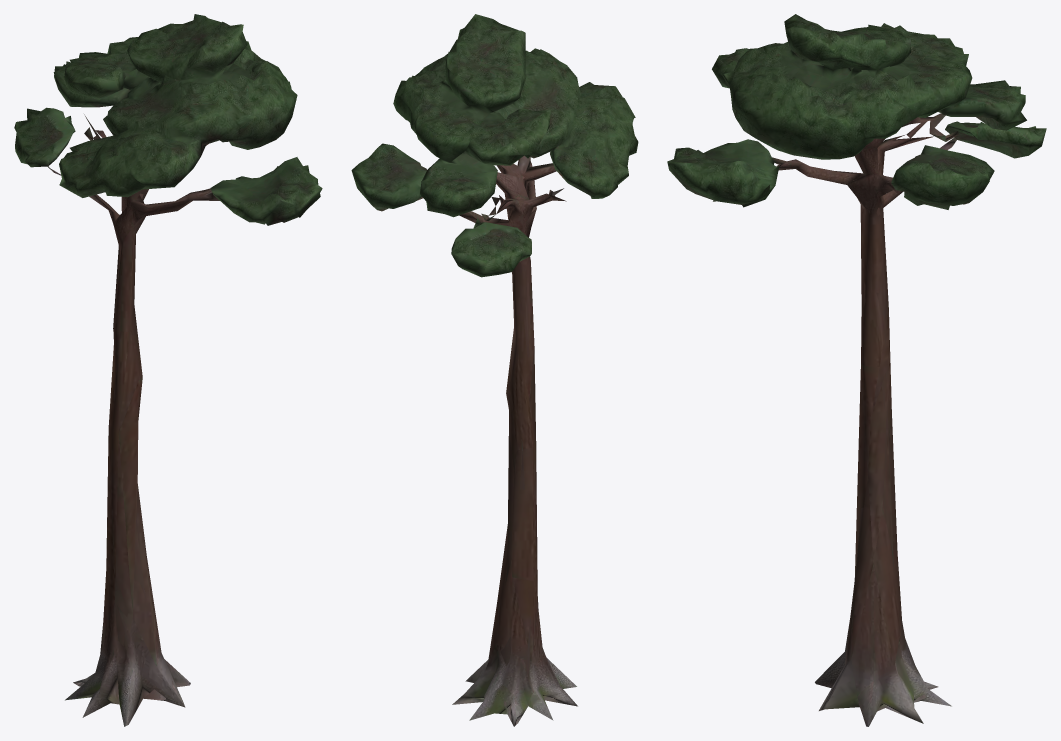
The model's file is tree-cypress-a.glb.
The picture shows the model from 3 angles, left to right: view 1: azimuth 30°, elevation 25°; view 2: azimuth 150°, elevation 25°; view 3: azimuth 270°, elevation 25°; orthographic projection. The views are drawn at different scales.
Bounding box in the file's own units: 0.64 × 1.9 × 0.9148.
1 material, 1 textured.
